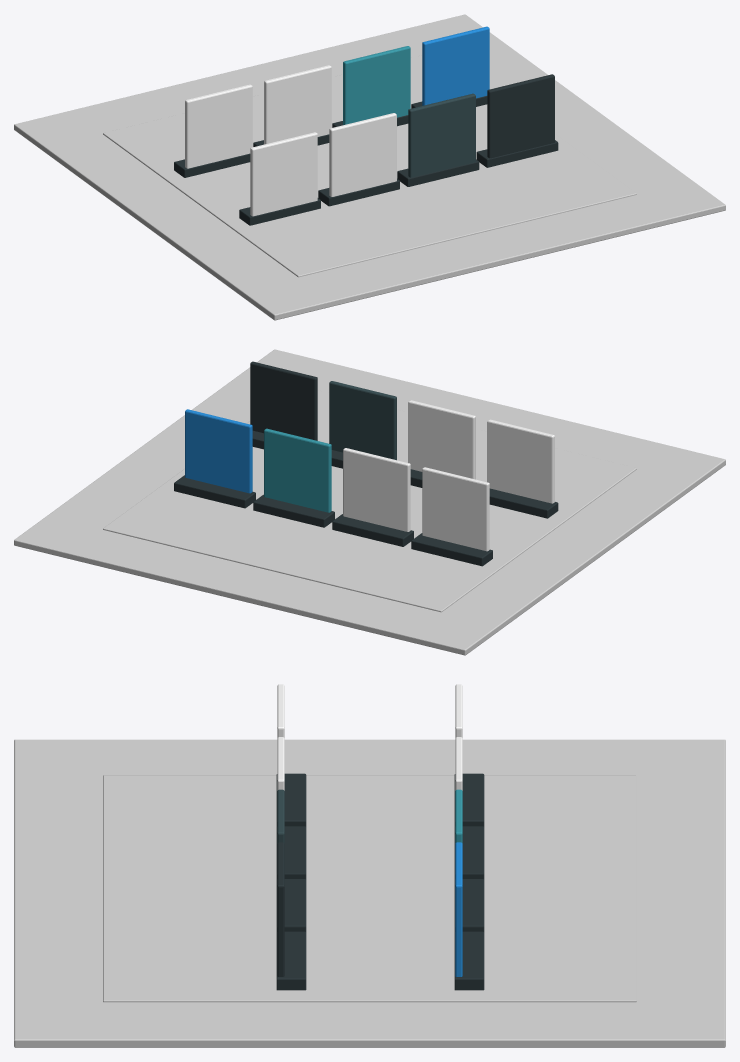
Rendered from 02_Material_Lab.gltf.
3 views of the same model, one above another, from view 1: azimuth 30°, elevation 25°; view 2: azimuth 150°, elevation 25°; view 3: azimuth 270°, elevation 25° (orthographic). The views are drawn at different scales.
Parts seen in each view (by area): view 1: Material Lab Ground, Material Lab Pad, Material panel, Material panel.003, Material panel.002, Material panel.001, Material panel.004, Material panel.005, Material panel.006, Material panel.007, Panel base.003, Panel base.002 (+3 smaller); view 2: Material Lab Ground, Material Lab Pad, Material panel.007, Material panel.004, Material panel.006, Material panel.005, Material panel, Material panel.001, Material panel.003, Material panel.002, Panel base.006, Panel base.007 (+3 smaller); view 3: Material Lab Pad, Material Lab Ground, Panel base.003, Panel base.007, Panel base, Panel base.004, Panel base.001, Panel base.005, Panel base.002, Panel base.006, Material panel.003, Material panel.007.
Part boxes in pixels (x1,y1,x2,y2): Material Lab Ground: (14, 14, 725, 320); Material Lab Pad: (103, 55, 636, 277); Material panel: (250, 132, 317, 216); Material panel.003: (487, 74, 554, 158); Material panel.002: (408, 93, 475, 177); Material panel.001: (329, 113, 396, 196); Material panel.004: (185, 84, 252, 168); Material panel.005: (264, 65, 331, 144); Material panel.006: (343, 46, 410, 125); Material panel.007: (422, 26, 489, 105); Panel base.003: (476, 140, 558, 167); Panel base.002: (397, 159, 479, 186); Material Lab Ground: (14, 349, 725, 655); Material Lab Pad: (103, 390, 636, 612); Material panel.007: (185, 409, 252, 493); Material panel.004: (422, 467, 489, 551); Material panel.006: (264, 428, 331, 512); Material panel.005: (343, 448, 410, 531); Material panel: (487, 419, 554, 503); Material panel.001: (408, 400, 475, 479); Material panel.003: (250, 361, 317, 440); Material panel.002: (329, 381, 396, 460); Panel base.006: (253, 494, 334, 527); Panel base.007: (174, 475, 255, 508); Material Lab Pad: (103, 775, 636, 1002); Material Lab Ground: (14, 739, 725, 1047); Panel base.003: (276, 931, 306, 990); Panel base.007: (454, 931, 484, 990); Panel base: (276, 773, 306, 826); Panel base.004: (454, 773, 484, 826); Panel base.001: (276, 826, 306, 879); Panel base.005: (454, 826, 484, 879); Panel base.002: (276, 879, 306, 932); Panel base.006: (454, 879, 484, 932); Material panel.003: (277, 842, 284, 976); Material panel.007: (455, 842, 462, 976).
Size of the model in its own units: 24 by 4.2 by 24.
